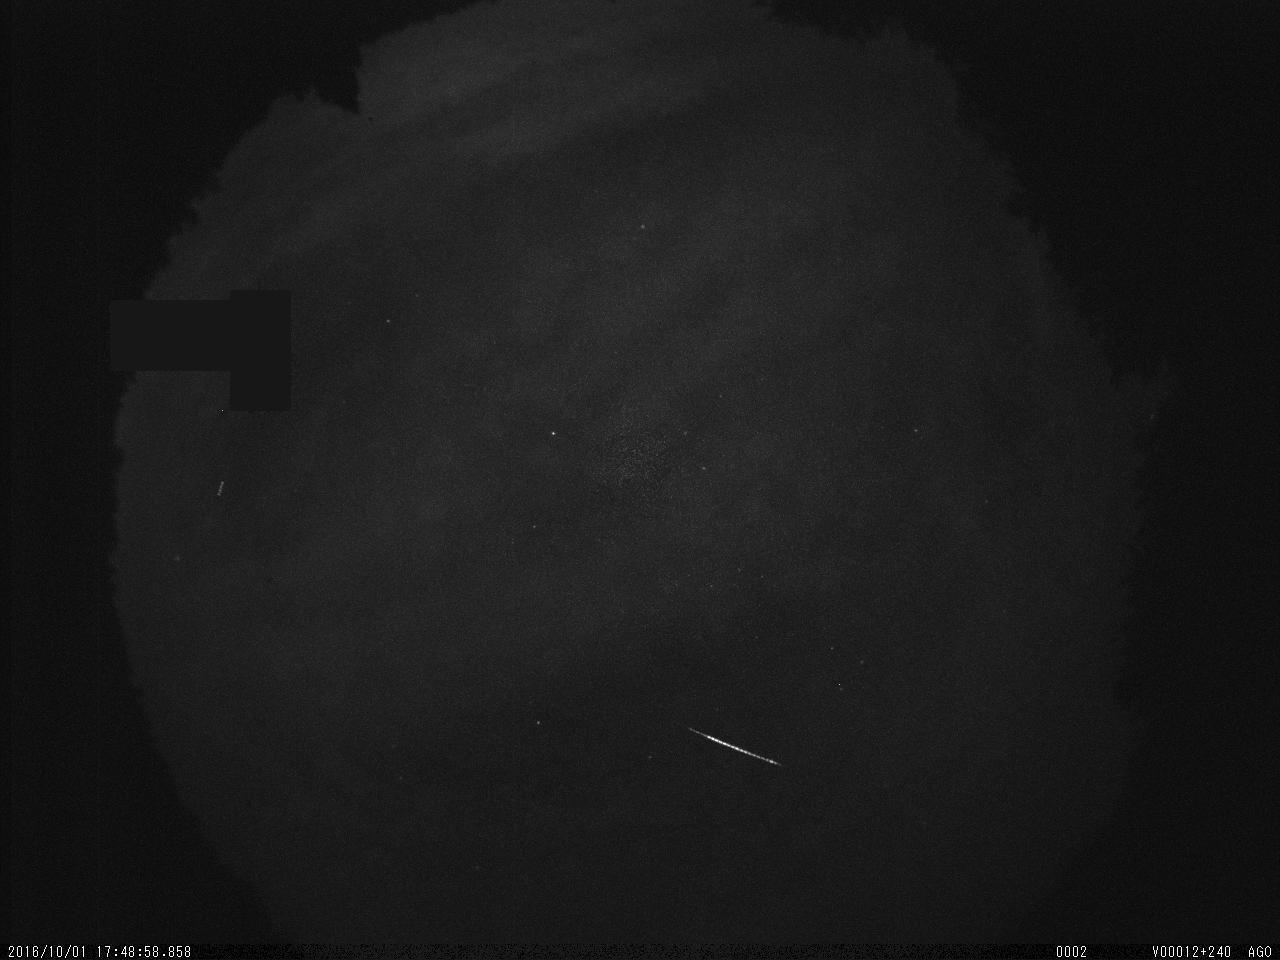meteor: (653, 697, 803, 793)
